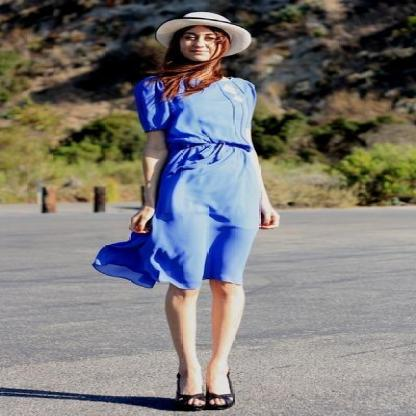dress: (95, 76, 276, 292)
hat: (157, 12, 253, 52)
shoe: (165, 391, 233, 415)
